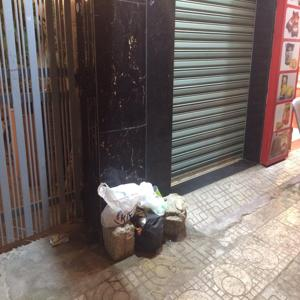cardboard: (102, 219, 131, 263)
plastic: (118, 204, 168, 250), (125, 175, 167, 218), (94, 183, 140, 222), (158, 187, 195, 217)
